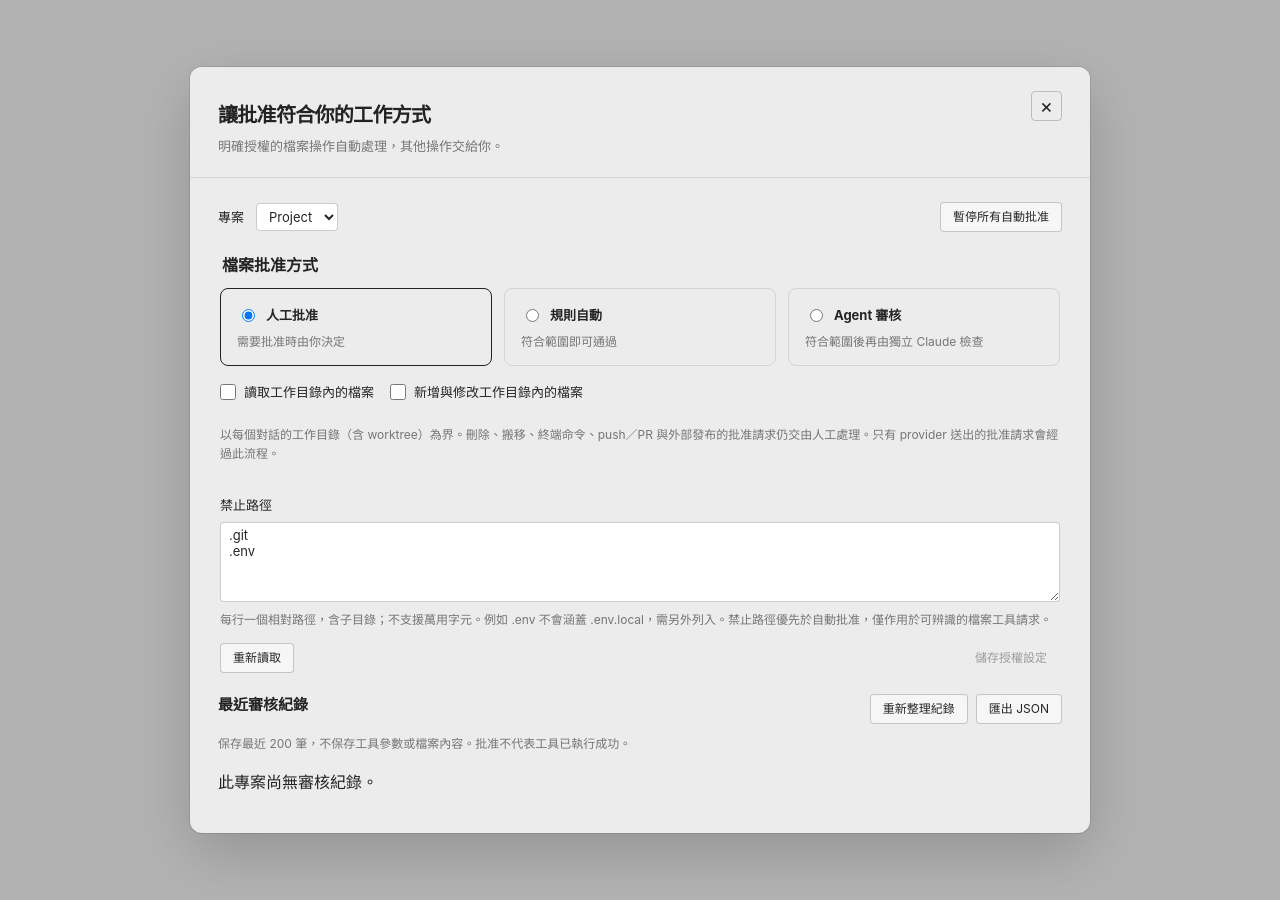
Test case: 審核模式顯示目的、範圍與用量說明；可暫停並恢復
Expected: the text "此專案尚無審核紀錄。" is shown, [218,772,378,792]
Click the radio button labelled "Agent 審核 符合範圍後再由獨立 Claude 檢查".
click(816, 316)  # box [810,309,823,322]
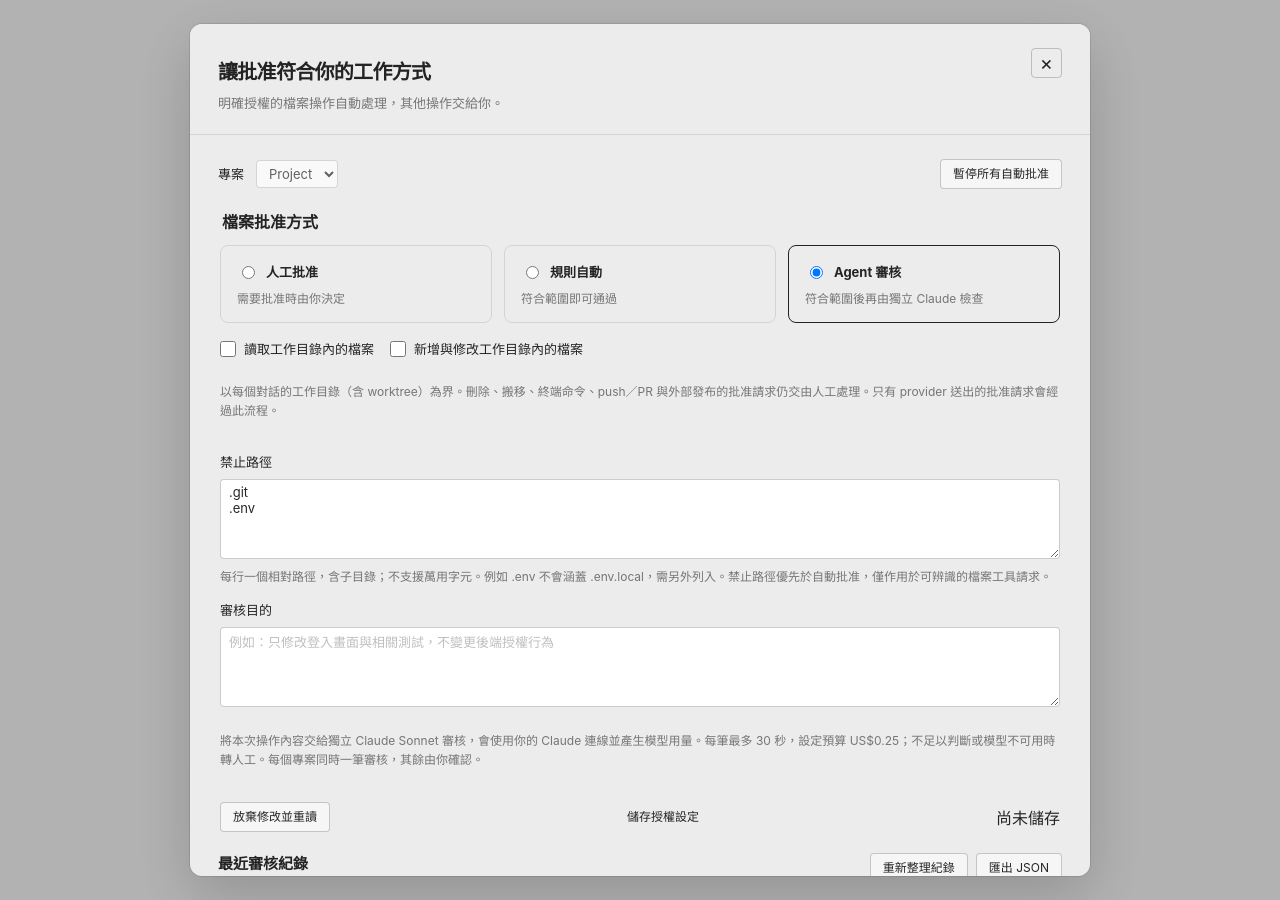
Result: the text box labelled "審核目的" is shown at [220,627,1060,707]
Result: the text "US$0.25" is shown at [220,733,1055,767]
Click the button "暫停所有自動批准".
click(1001, 174)  # box [940,159,1062,189]
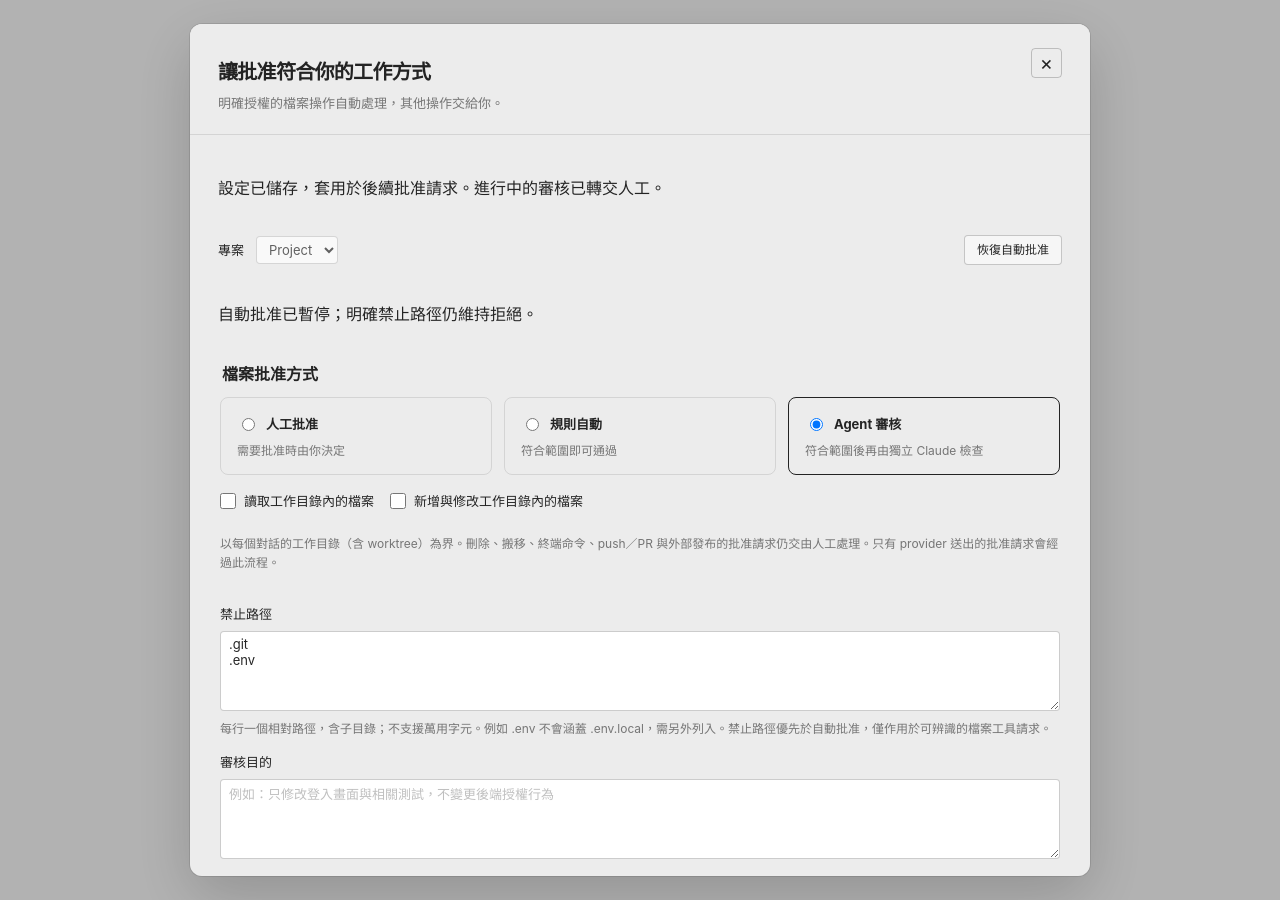
Result: the button "恢復自動批准" is shown at [964,235,1062,265]
